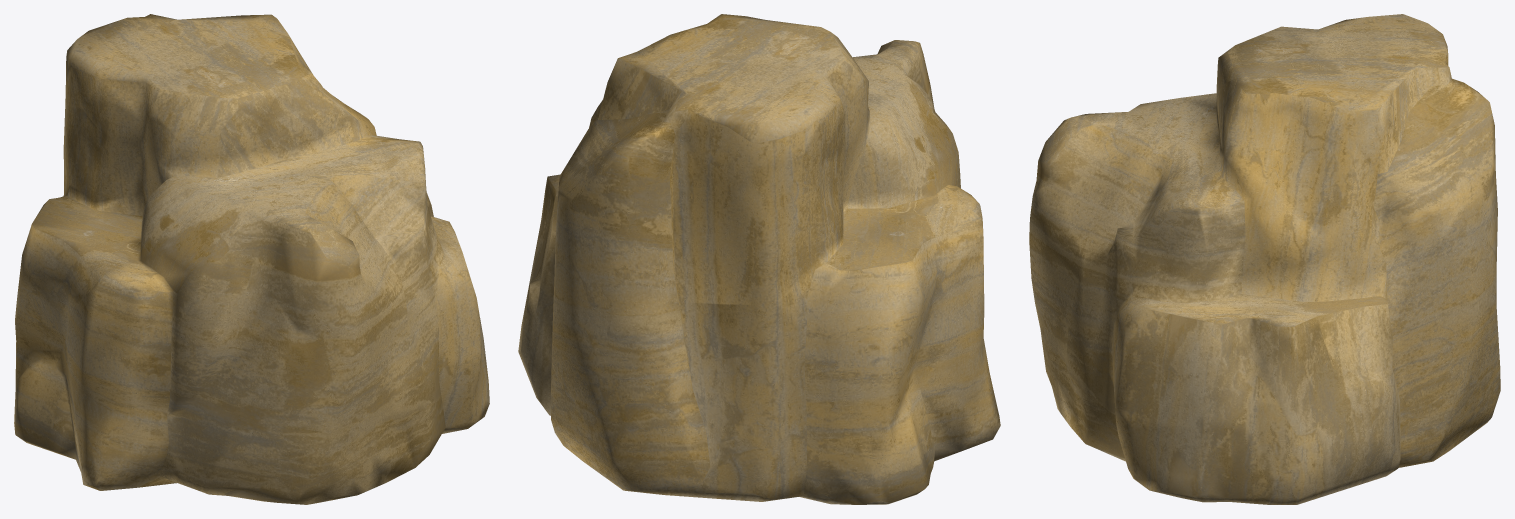
The model's file is SM_stone_06.fbx.
3 views of the same model, side by side, from view 1: azimuth 30°, elevation 25°; view 2: azimuth 150°, elevation 25°; view 3: azimuth 270°, elevation 25° (orthographic). The views are drawn at different scales.
Parts seen in each view (by area): view 1: SM_stone_06_LOD0; view 2: SM_stone_06_LOD0; view 3: SM_stone_06_LOD0.
Part boxes in pixels (x1,y1,x2,y2): SM_stone_06_LOD0: (14, 14, 489, 504); SM_stone_06_LOD0: (518, 14, 1000, 504); SM_stone_06_LOD0: (1029, 14, 1500, 504).
Bounding box in the file's own units: 686 × 706 × 578.
1 material, 1 textured.
